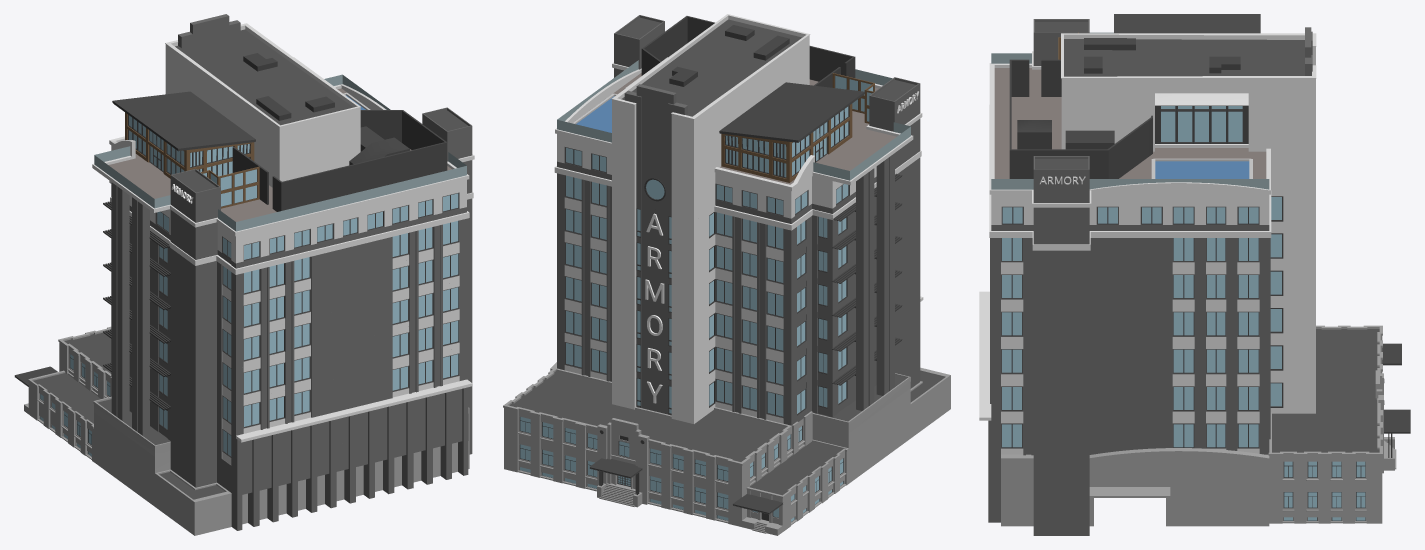
File: hotel2.glb
3 renders of one model, left to right at view 1: azimuth 30°, elevation 25°; view 2: azimuth 150°, elevation 25°; view 3: azimuth 270°, elevation 25°, orthographic. The views are drawn at different scales.
Parts seen in each view (by area): view 1: polySurface325; view 2: polySurface325; view 3: polySurface325.
Part boxes in pixels (bbox=[...]): polySurface325: bbox=[14, 14, 474, 535]; polySurface325: bbox=[503, 14, 950, 535]; polySurface325: bbox=[979, 14, 1410, 535].
Size of the model in its own units: 41.46 by 50.77 by 46.98.
